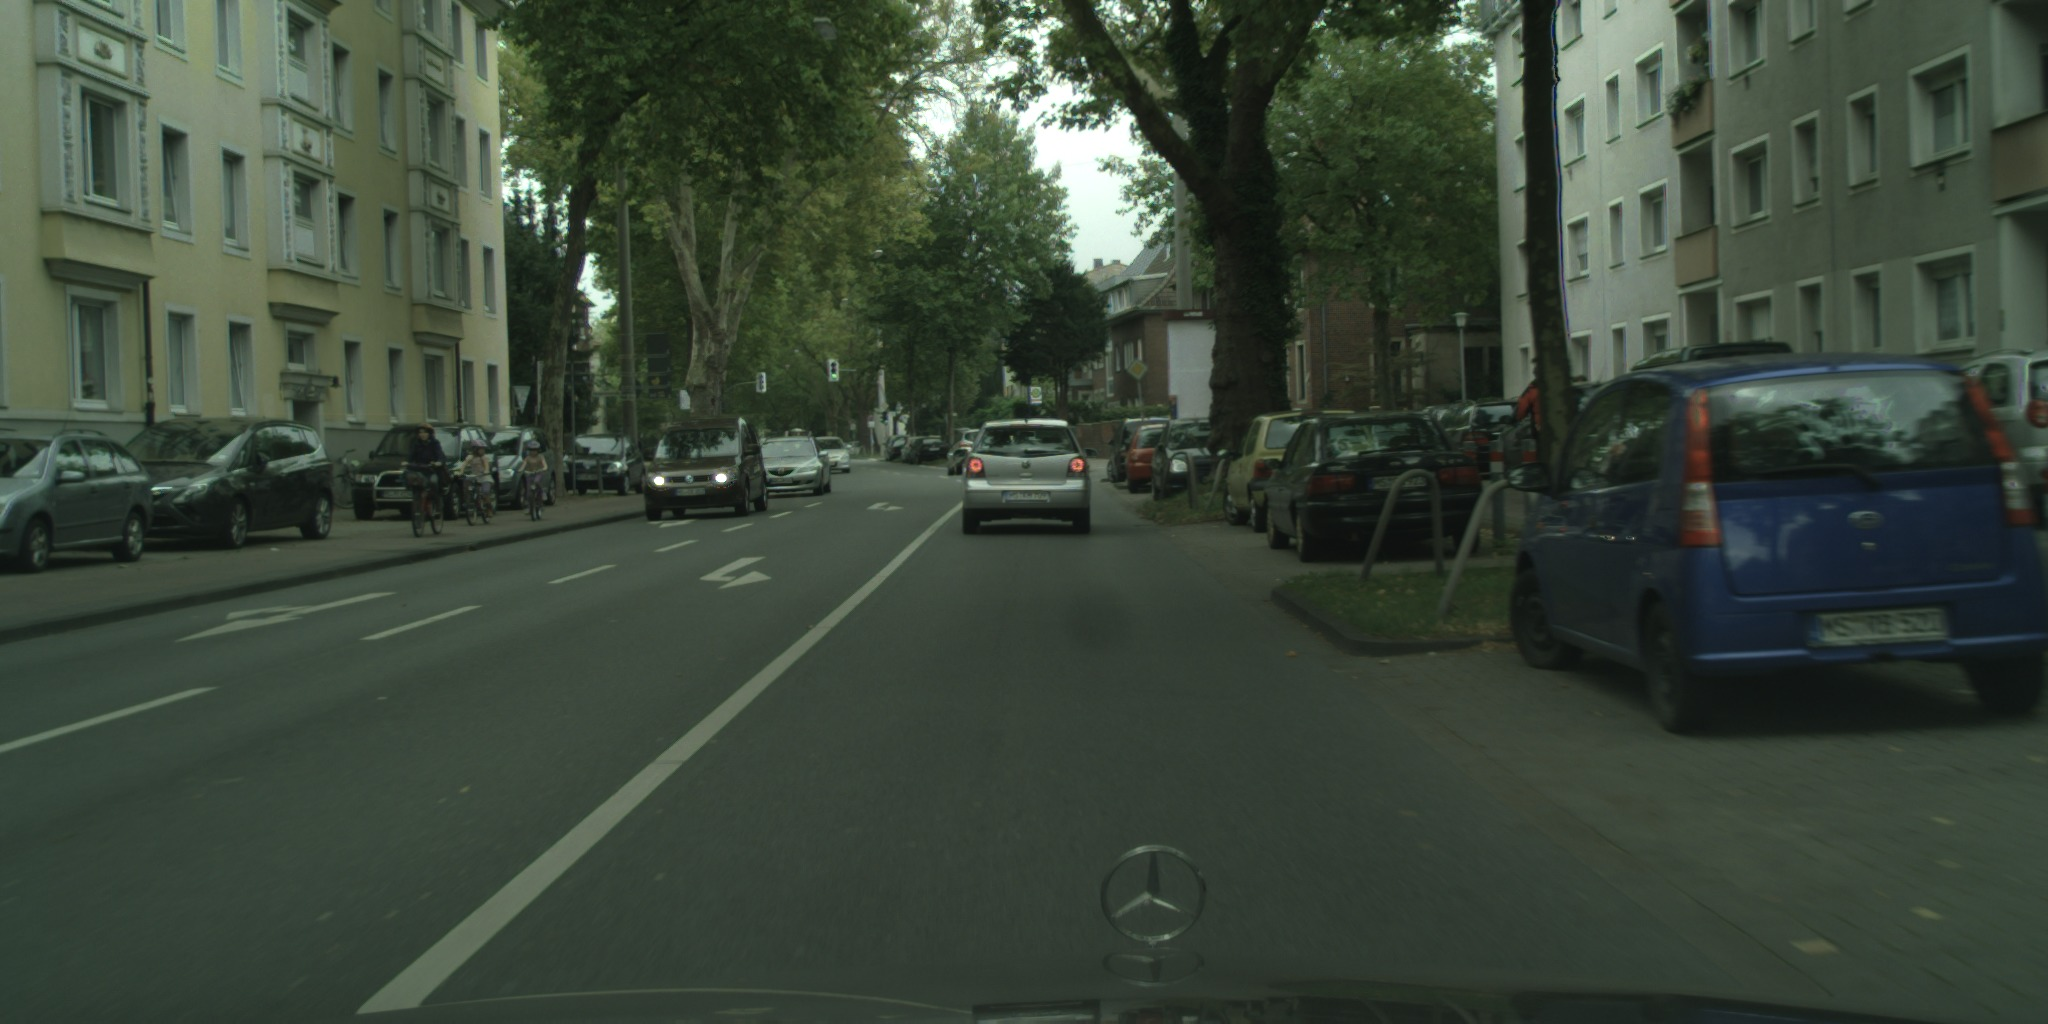bicycle: (400, 463, 444, 537), (513, 467, 549, 522), (458, 472, 494, 526)
car: (1508, 351, 2048, 738), (1263, 410, 1484, 562), (113, 417, 333, 549), (0, 427, 153, 574), (1222, 408, 1364, 533), (1954, 347, 2048, 531), (952, 418, 1097, 536), (351, 422, 500, 520), (641, 415, 769, 522), (1500, 381, 1626, 489), (1430, 395, 1546, 482), (477, 423, 559, 510), (1149, 413, 1227, 503), (1626, 342, 1798, 375), (560, 434, 647, 497), (753, 436, 831, 496), (1106, 415, 1171, 483), (1121, 421, 1172, 492), (804, 436, 852, 473), (948, 428, 983, 476), (900, 434, 944, 465), (914, 437, 954, 461), (884, 434, 913, 463)
person: (1498, 353, 1593, 472)
rider: (405, 422, 456, 521), (463, 439, 495, 518), (513, 438, 549, 511)
